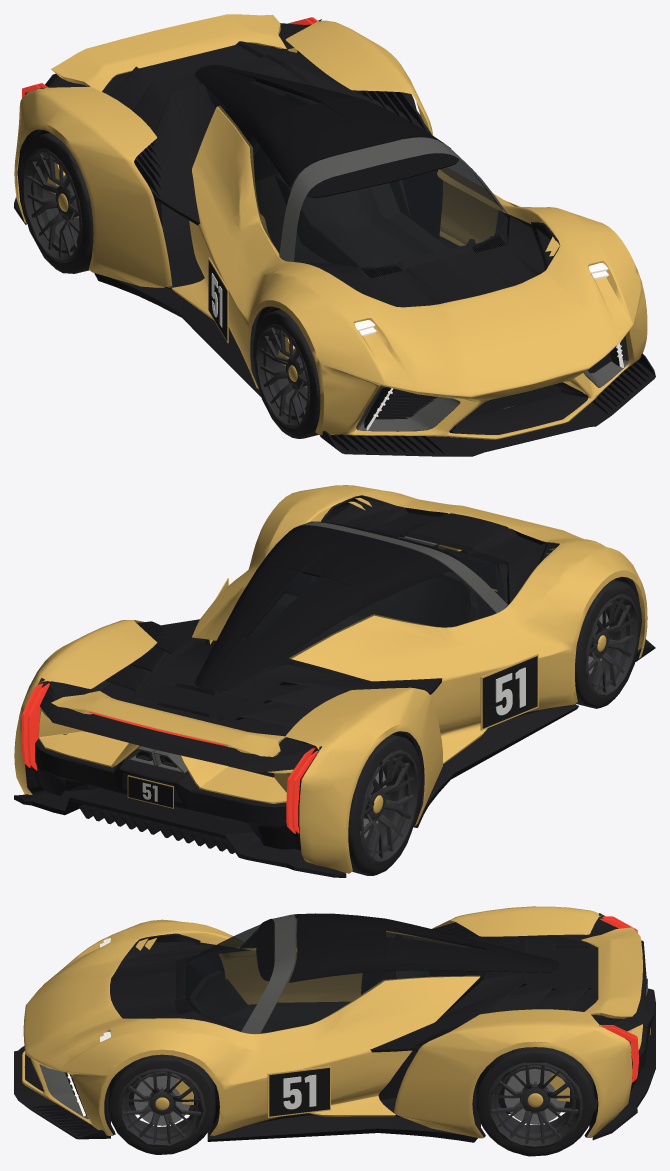
Rendered from surge_lod1.glb.
The picture shows the model from 3 angles, top to bottom: view 1: azimuth 30°, elevation 25°; view 2: azimuth 150°, elevation 25°; view 3: azimuth 270°, elevation 25°; orthographic projection. The views are drawn at different scales.
Visible parts, largest first — view 1: Body, Wheel_RR, Wheel_FR; view 2: Body, Wheel_RR, Wheel_FR; view 3: Body, Wheel_RL, Wheel_FL.
Boxes of the visible parts, x1,y1,x2,y2 form: Body: (14,14,655,456); Wheel_RR: (19,132,93,273); Wheel_FR: (253,309,320,438); Body: (14,485,655,877); Wheel_RR: (348,734,421,875); Wheel_FR: (575,579,641,708); Body: (14,906,655,1142); Wheel_RL: (476,1047,594,1156); Wheel_FL: (108,1054,215,1154).
Bounding box in the file's own units: 2.44 × 1.33 × 4.85.
6 materials, 3 textured.
